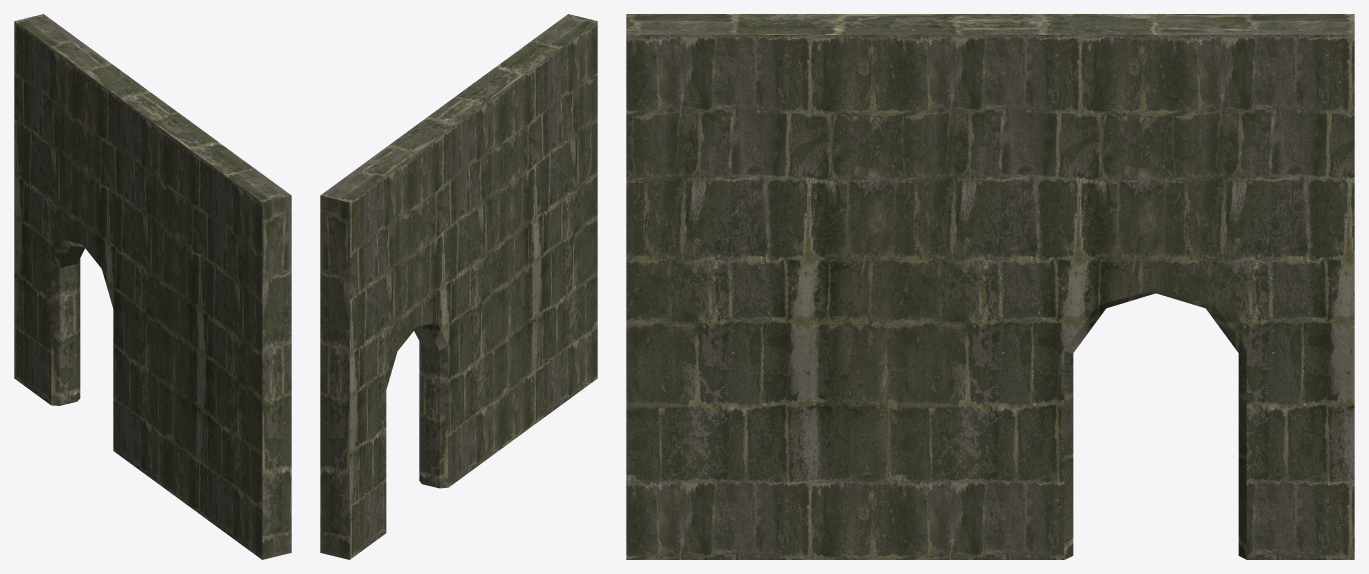
File: Wall_Doorway_R.fbx
The picture shows the model from 3 angles, left to right: view 1: azimuth 30°, elevation 25°; view 2: azimuth 150°, elevation 25°; view 3: azimuth 270°, elevation 25°; orthographic projection. The views are drawn at different scales.
Parts seen in each view (by area): view 1: Doorway_R; view 2: Doorway_R; view 3: Doorway_R.
Boxes of the visible parts, left/top/right/bottom form: Doorway_R: left=14, top=14, right=291, bottom=559; Doorway_R: left=320, top=14, right=597, bottom=559; Doorway_R: left=626, top=14, right=1354, bottom=559.
Size of the model in its own units: 51 by 595 by 748.
